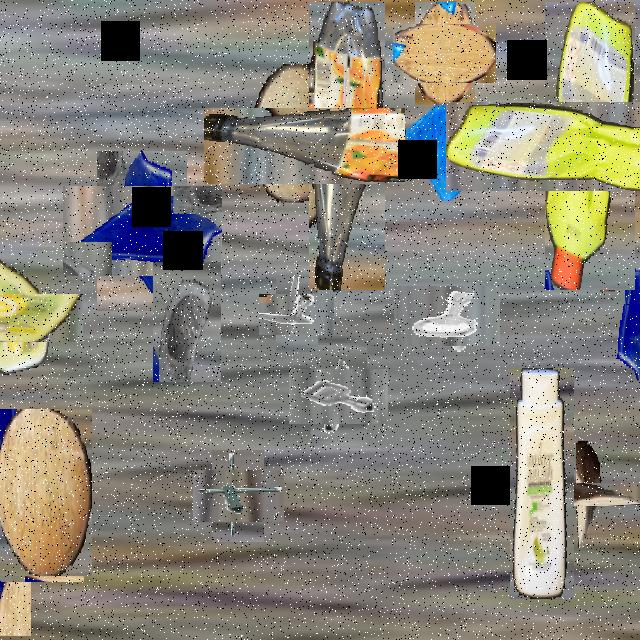glass: (80, 168, 204, 294), (153, 262, 221, 382), (405, 89, 467, 199), (0, 524, 57, 609), (611, 263, 640, 381)
metal: (405, 275, 489, 358), (300, 358, 378, 435), (202, 460, 274, 532), (268, 285, 326, 344)
plastic: (256, 55, 438, 237), (495, 51, 640, 240), (510, 368, 574, 599), (0, 276, 65, 359)
wood: (0, 409, 92, 576), (252, 64, 334, 203), (404, 13, 486, 94), (556, 461, 620, 527)
